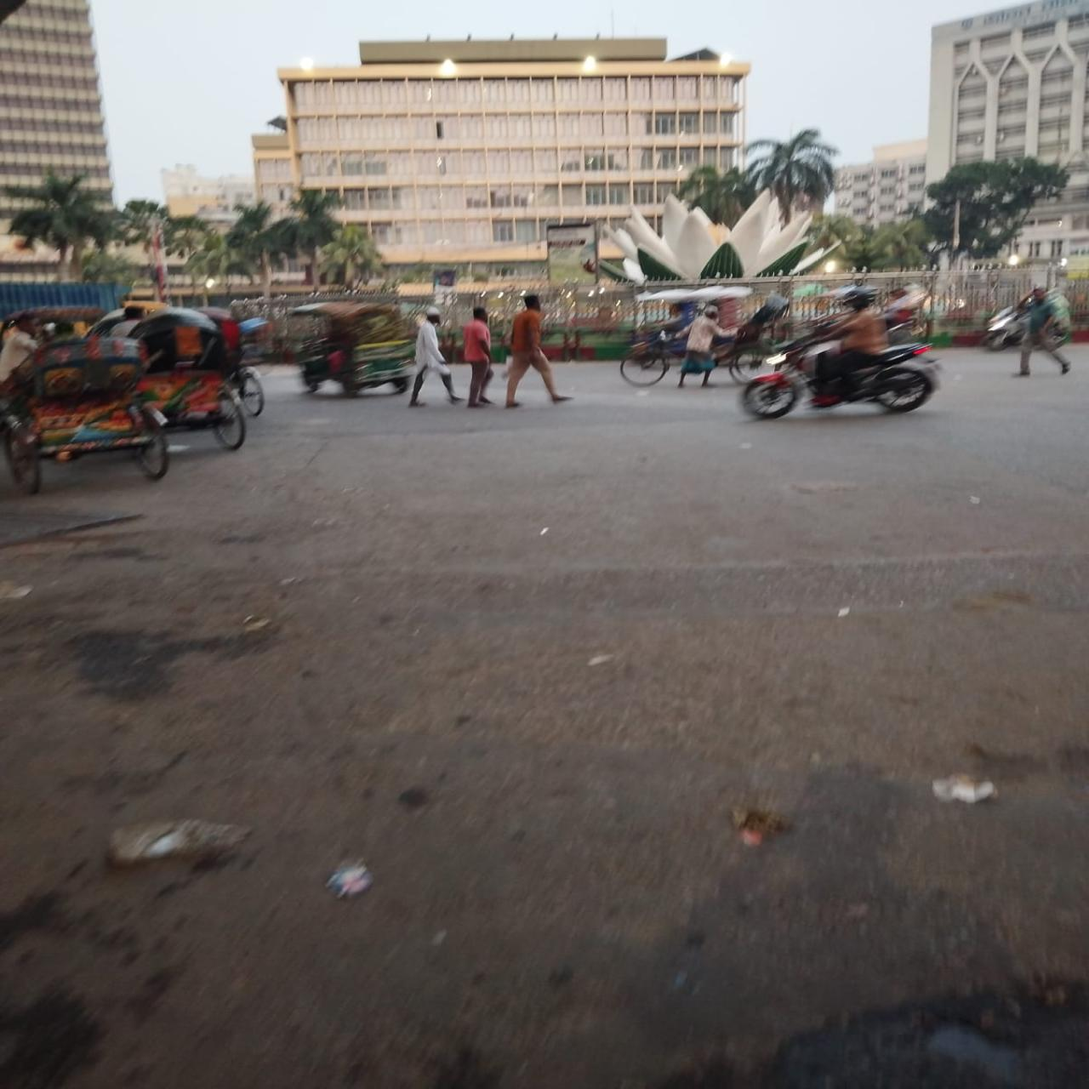person: (504, 292, 577, 408), (1004, 286, 1077, 377), (408, 303, 463, 407), (677, 304, 736, 386), (462, 302, 496, 413)
